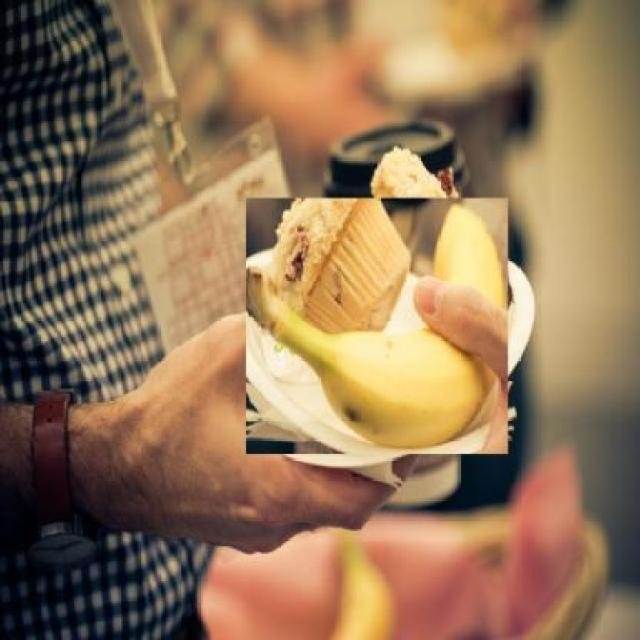Banana: (246, 198, 508, 454)
